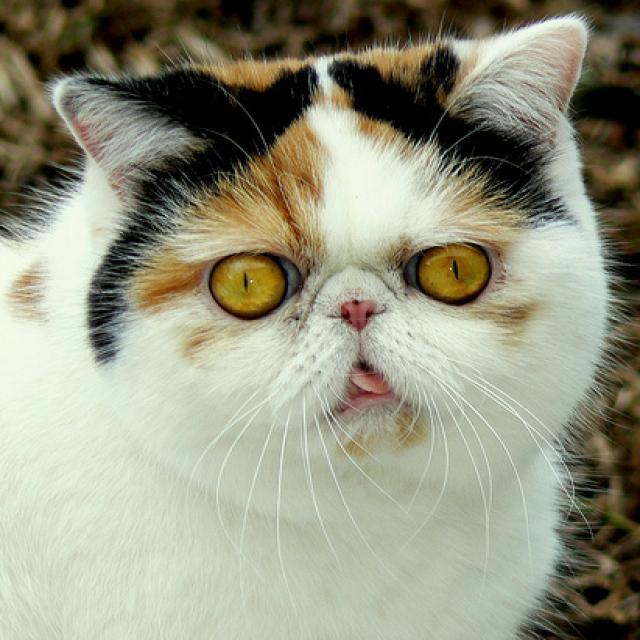Persian: (0, 8, 612, 640)
